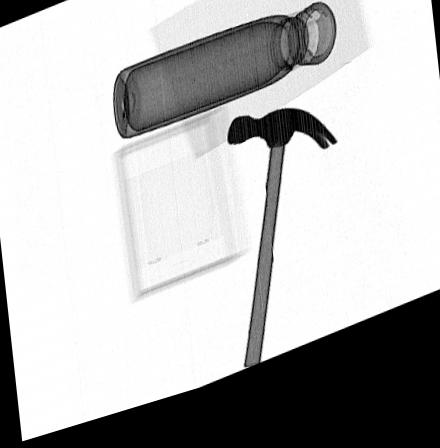Hammer: (226, 123, 339, 380)
